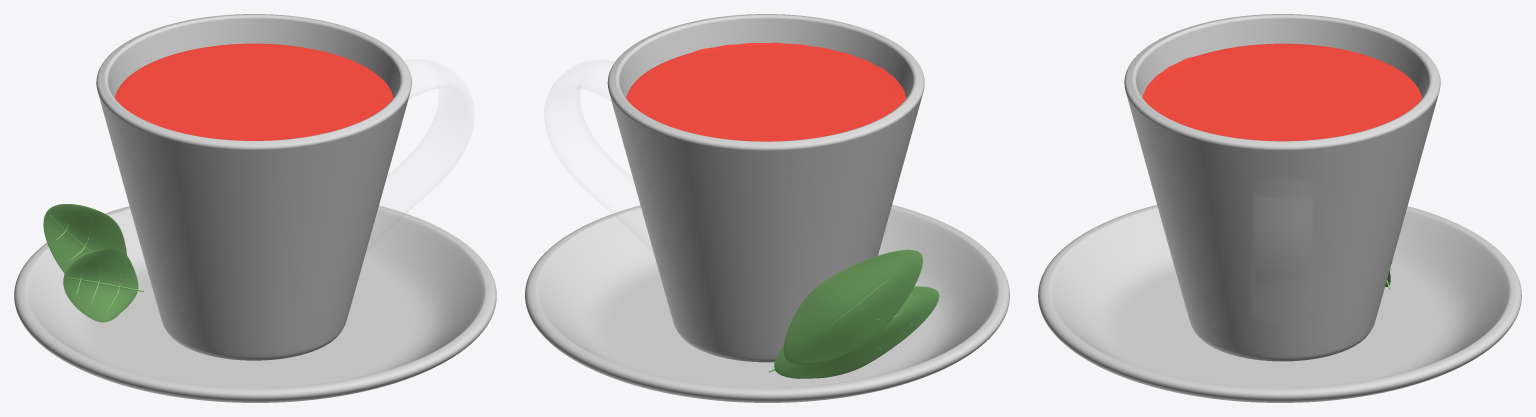
File: tea-cup.glb
3 views of the same model, side by side, from view 1: azimuth 30°, elevation 25°; view 2: azimuth 150°, elevation 25°; view 3: azimuth 270°, elevation 25° (orthographic).
Visible parts, largest first — view 1: Cylinder, Cylinder.001, Cylinder.002, Plane.002, Plane.001; view 2: Cylinder, Cylinder.001, Cylinder.002, Plane.001, Plane.002; view 3: Cylinder, Cylinder.001, Cylinder.002.
Part boxes in pixels (x1,y1,x2,y2): Cylinder: (96,14,411,360); Cylinder.001: (14,205,496,402); Cylinder.002: (115,43,393,140); Plane.002: (63,247,138,322); Plane.001: (43,204,126,273); Cylinder: (607,14,924,362); Cylinder.001: (525,204,1009,402); Cylinder.002: (626,42,906,141); Plane.001: (783,249,922,364); Plane.002: (774,286,939,378); Cylinder: (1124,14,1440,361); Cylinder.001: (1038,205,1521,402); Cylinder.002: (1142,43,1422,141).
Bounding box in the file's own units: 4.82 × 3 × 4.79.
